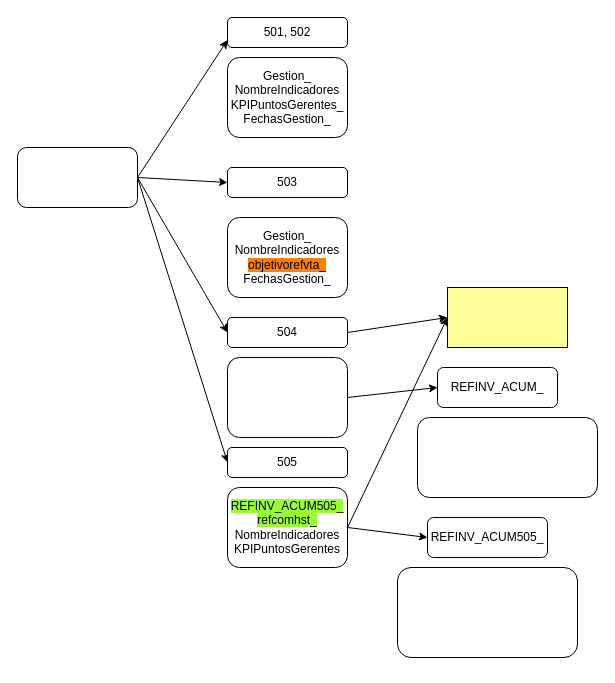
Some shapes in this 615 by 683 pixel diagram are drawn without their labels. Each missing label, with the centre of its shape:
"PuntosRefacciones_" goes at [77,177].
"REFINV_ACUM_ refcomhst_ NombreIndicadores KPIPuntosGerentes" goes at [287,397].
"REFINV_ACUMManual Directorio REFINV_ACUM_Paso REFINV_ACUM" goes at [507,457].
"REFINV_ACUMManual REFINV_Fantasma Directorio REFINV_ACUM505_Paso REFINV_ACUM" goes at [487,612].
"Se duplica 504 y 505 para Mercedez Benz" goes at [507,317].
